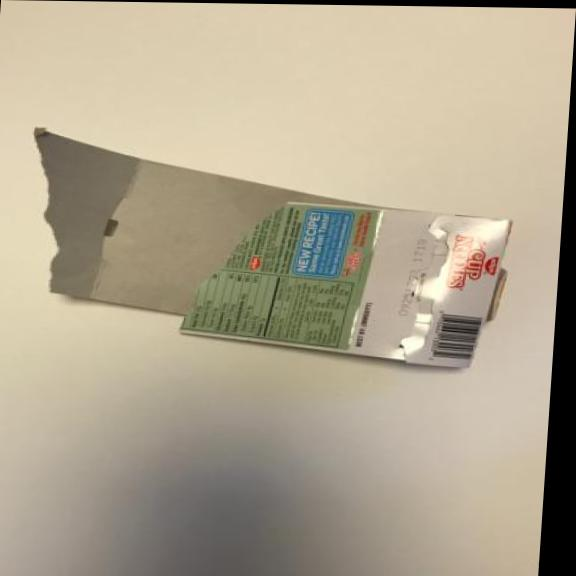Kertas: (11, 118, 528, 377)
